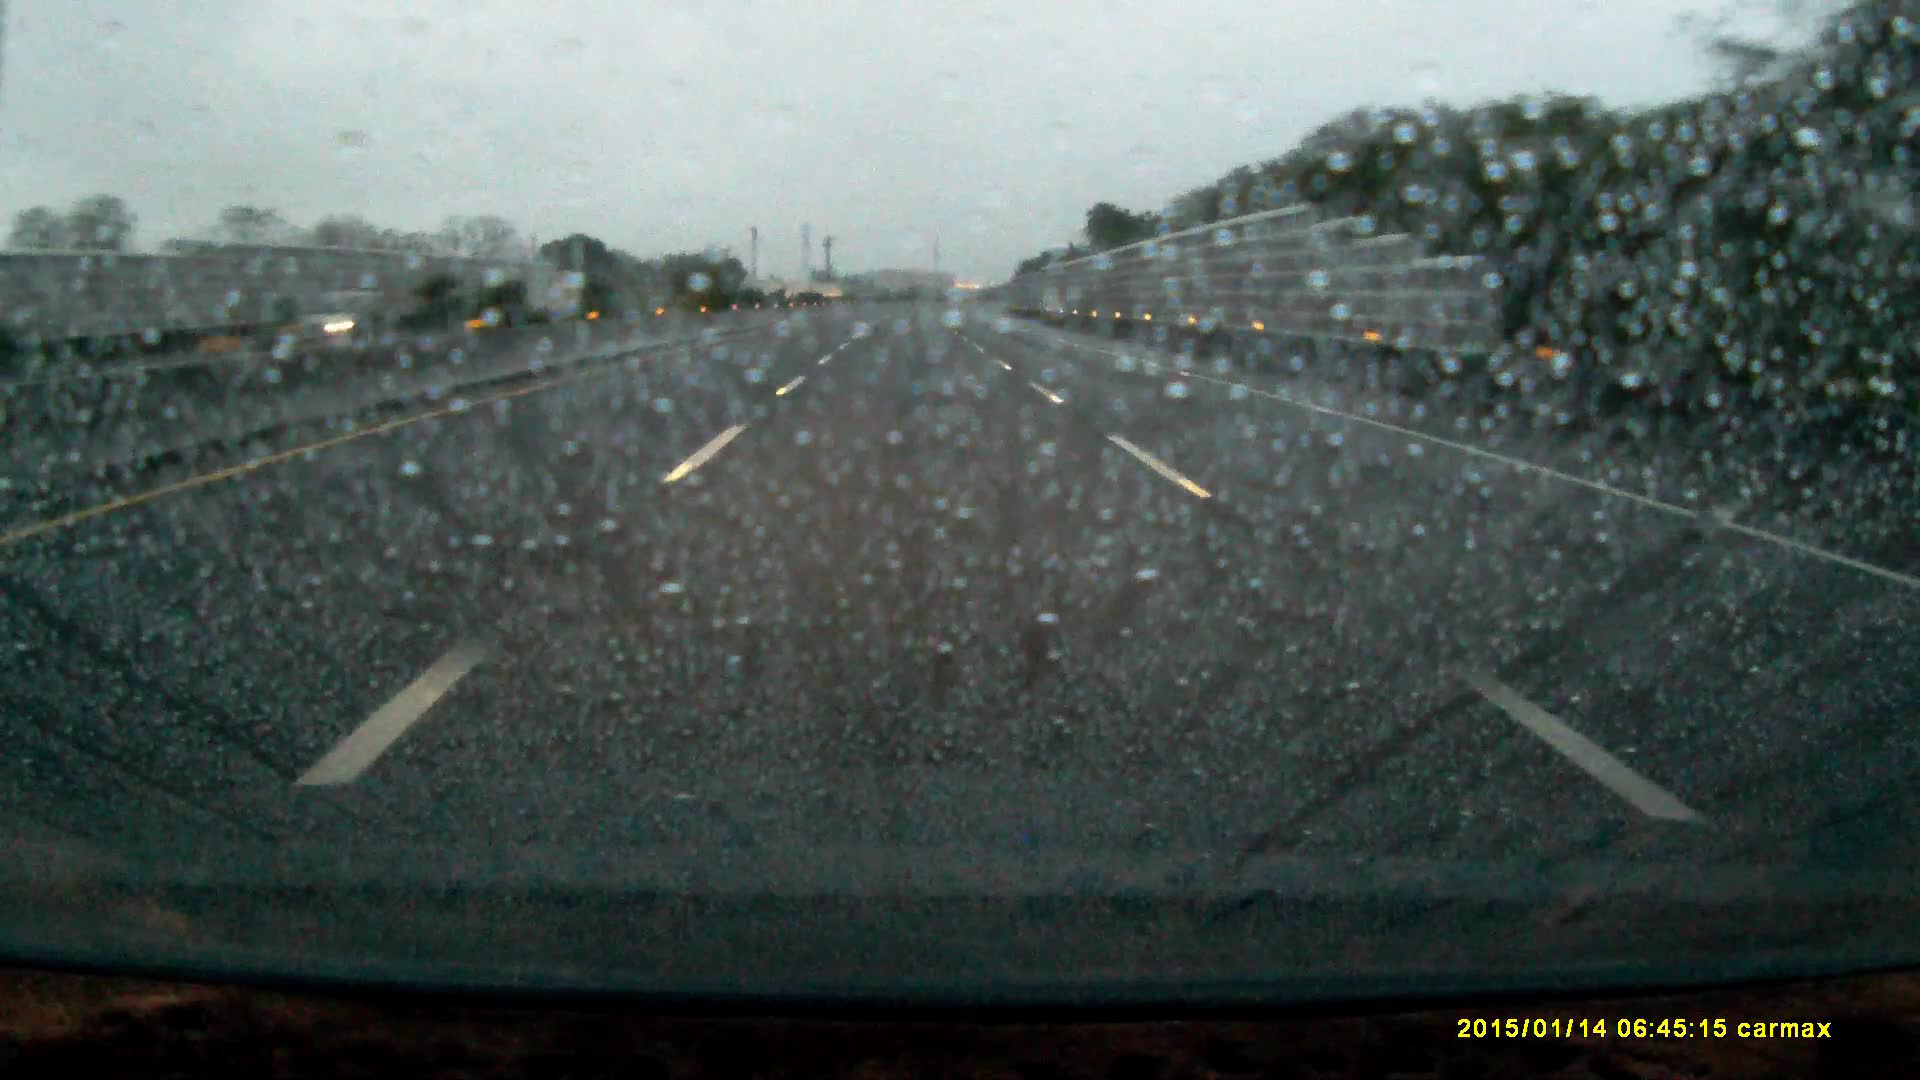vehicle: (285, 290, 381, 338)
